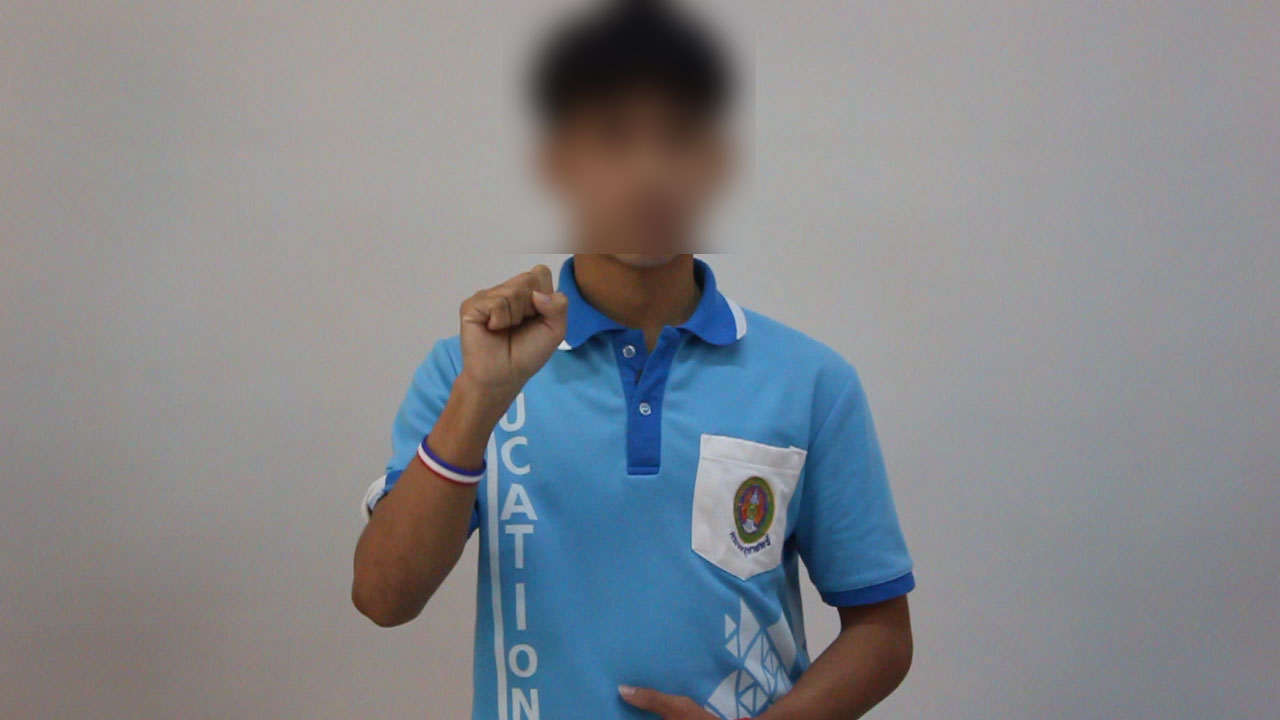sor: (441, 247, 581, 407)
